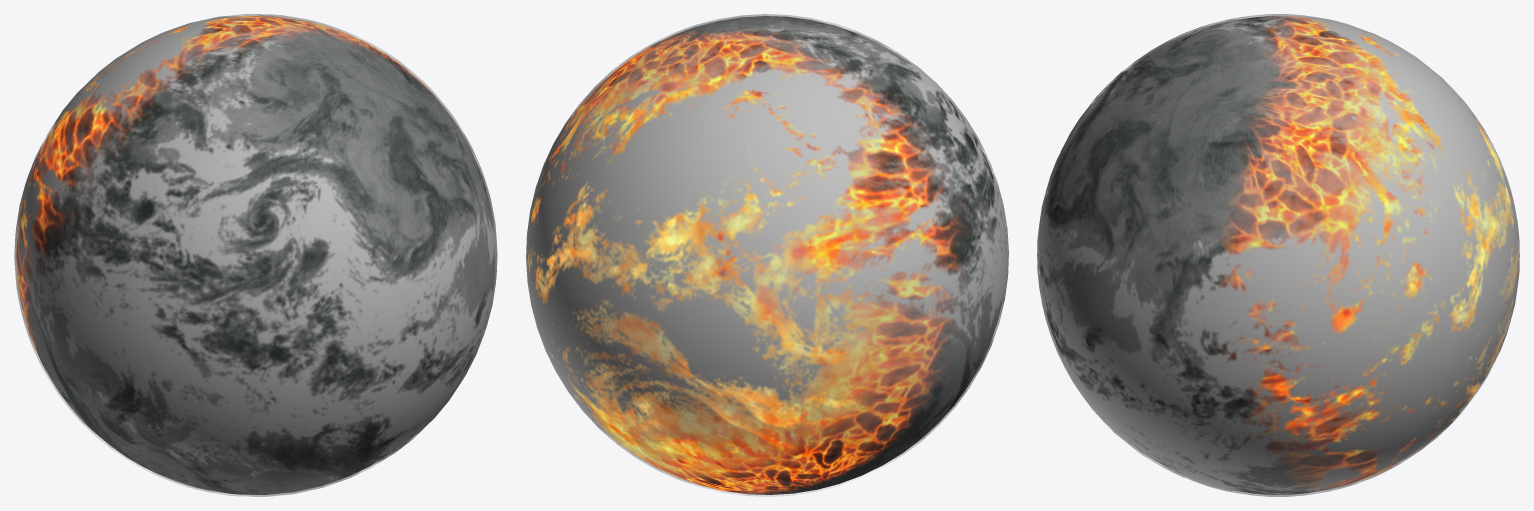
Rendered from lavalike.glb.
3 views of the same model, side by side, from view 1: azimuth 30°, elevation 25°; view 2: azimuth 150°, elevation 25°; view 3: azimuth 270°, elevation 25° (orthographic).
Visible parts, largest first — view 1: clouds, planet; view 2: clouds, planet; view 3: clouds, planet.
Boxes of the visible parts, box(x1,y1,x2,y2) form: clouds: box(14, 14, 497, 496); planet: box(16, 16, 494, 494); clouds: box(526, 14, 1008, 496); planet: box(528, 16, 1005, 494); clouds: box(1037, 14, 1519, 496); planet: box(1039, 16, 1517, 494).
Size of the model in its own units: 2.02 by 2.02 by 2.01.
Materials: 2 (2 with a texture image).
